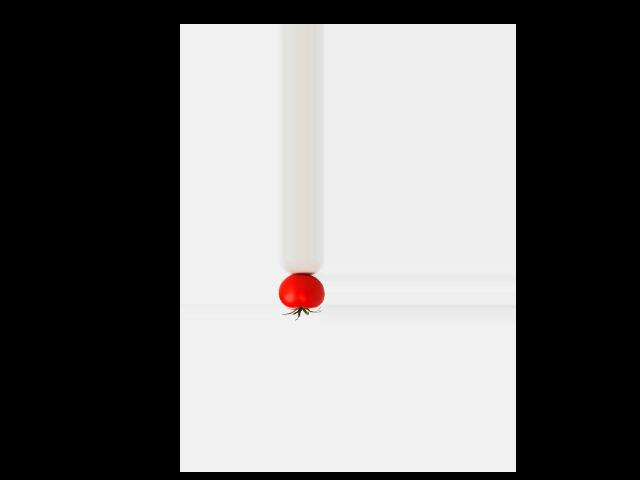tomato: (278, 274, 324, 308)
